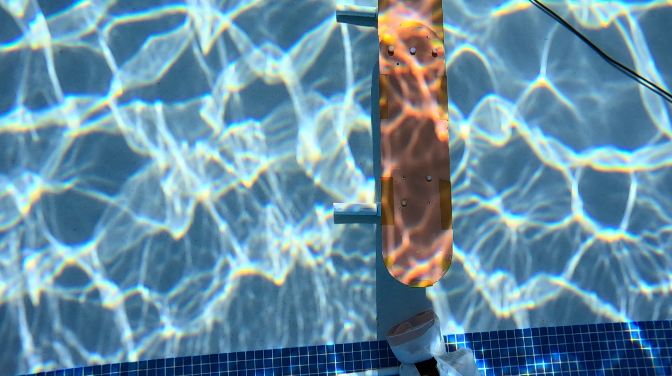pathmarker: (377, 0, 451, 287)
